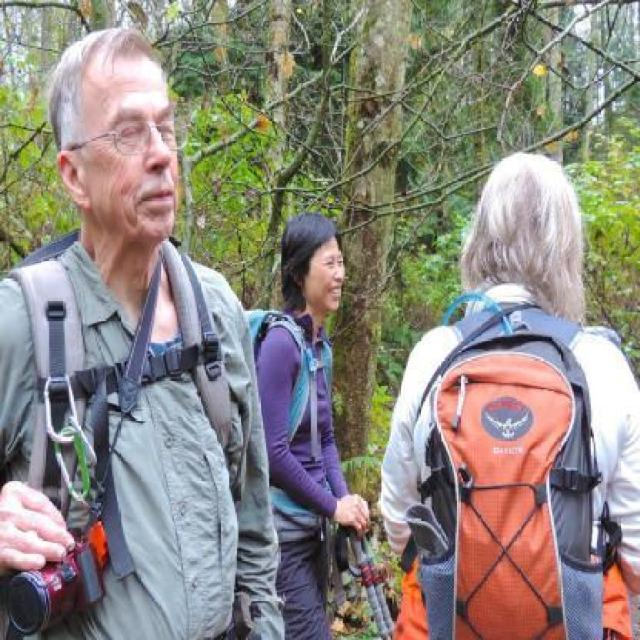backpack: (408, 323, 624, 640), (11, 251, 86, 514), (163, 245, 235, 460)
